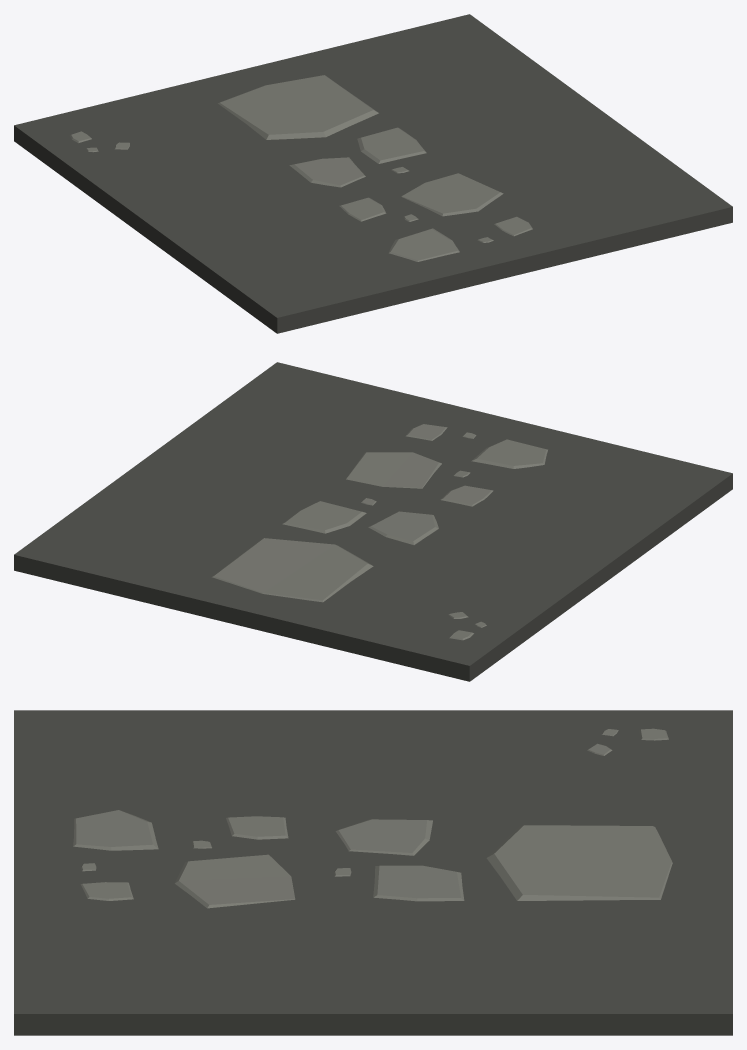
Rendered from Floor_3.fbx.
3 views of the same model, one above another, from view 1: azimuth 30°, elevation 25°; view 2: azimuth 150°, elevation 25°; view 3: azimuth 270°, elevation 25° (orthographic). The views are drawn at different scales.
Visible parts, largest first — view 1: Floor_3; view 2: Floor_3; view 3: Floor_3.
Boxes of the visible parts, x1=… form: Floor_3: x1=14, y1=14, x2=732, y2=333; Floor_3: x1=14, y1=362, x2=732, y2=681; Floor_3: x1=14, y1=710, x2=732, y2=1035.
Size of the model in its own units: 300 by 12.07 by 300.
